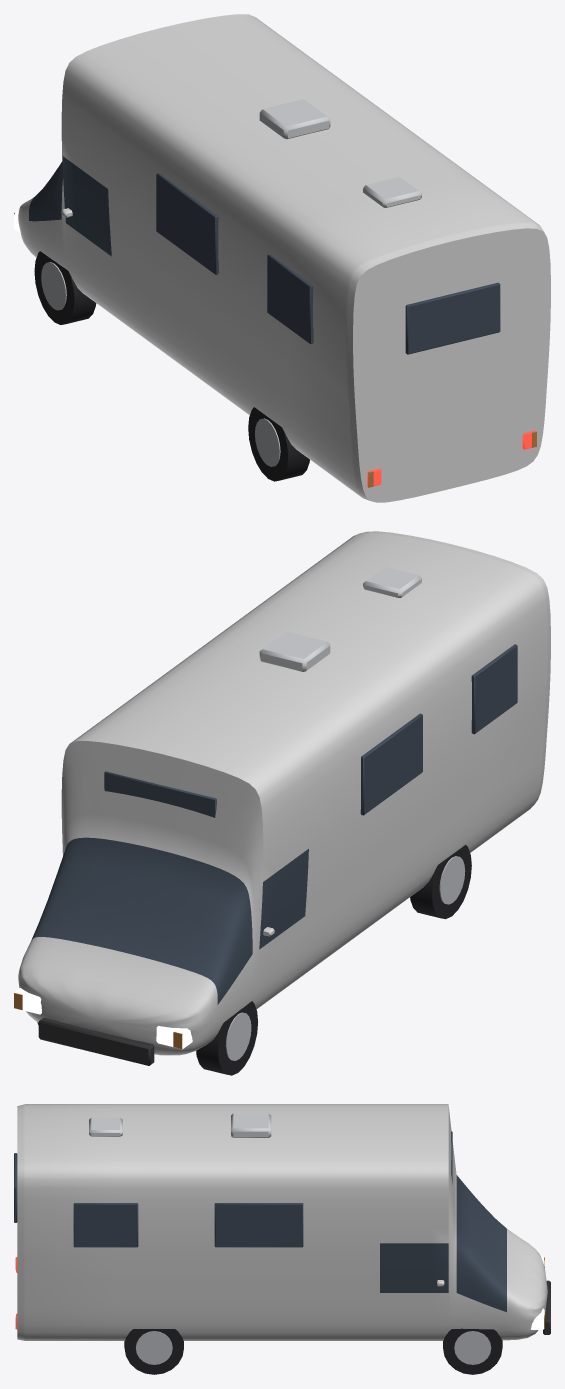
Rendered from auto_freq_caravan_lod1.glb.
3 views of the same model, one above another, from view 1: azimuth 30°, elevation 25°; view 2: azimuth 150°, elevation 25°; view 3: azimuth 270°, elevation 25° (orthographic). The views are drawn at different scales.
Visible parts, largest first — view 1: Karosserie, Rad_HL, Rad_VL; view 2: Karosserie, Rad_VL, Rad_HL; view 3: Karosserie, Rad_VR, Rad_HR.
Boxes of the visible parts, x1,y1,x2,y2 form: Karosserie: [14, 14, 550, 502]; Rad_HL: [248, 407, 309, 481]; Rad_VL: [34, 251, 96, 324]; Karosserie: [14, 531, 550, 1065]; Rad_VL: [196, 1001, 257, 1075]; Rad_HL: [410, 845, 471, 919]; Karosserie: [14, 1104, 550, 1340]; Rad_VR: [443, 1328, 502, 1374]; Rad_HR: [124, 1329, 183, 1374].
Bounding box in the file's own units: 2.24 × 3.02 × 6.66.
